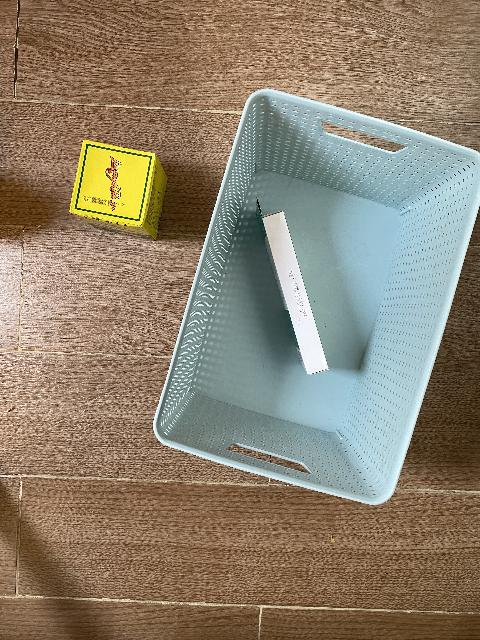4D_medical_face-mask: (255, 195, 329, 376)
cart: (152, 89, 480, 507)
luong_kho: (69, 140, 168, 240)
